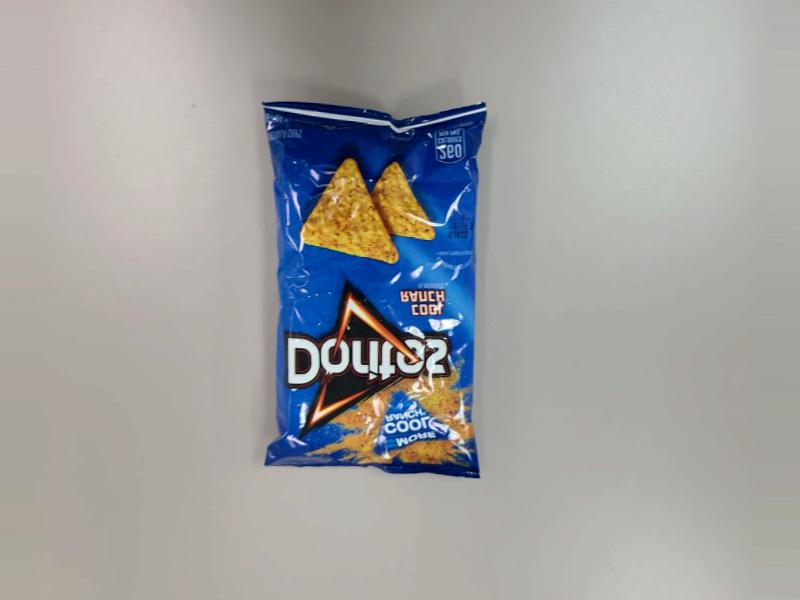doritos: (301, 89, 468, 494)
